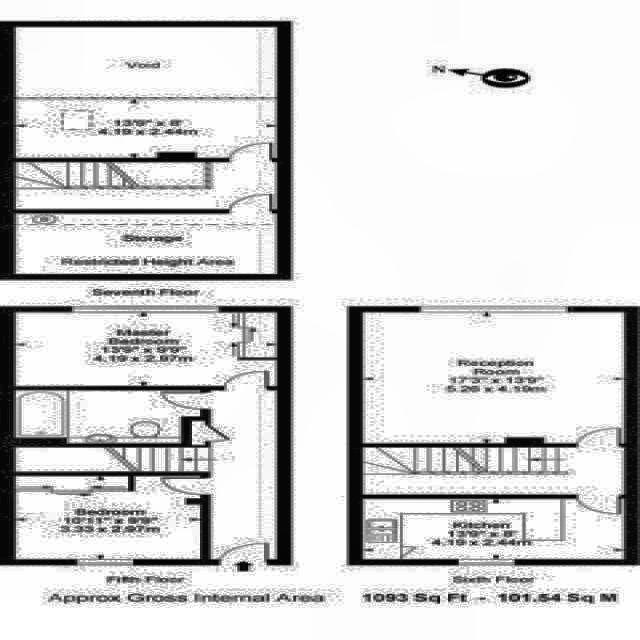room: (362, 312, 625, 444), (15, 26, 277, 158), (16, 313, 276, 386), (363, 498, 625, 559), (16, 213, 276, 274), (17, 476, 201, 559), (364, 447, 624, 495), (16, 162, 277, 209), (209, 390, 279, 559), (16, 390, 203, 444), (15, 447, 210, 472)
